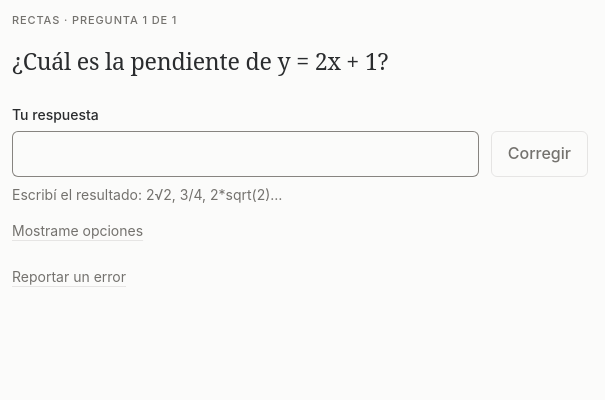
it: Práctica v2: ronda 2 › con la confianza a la vista, Corregir ya no está
Expected: the heading "¿Cuál es la pendiente de y = 2x + 1?" is shown, [12,45,388,77]
Type "2" into the field labelled "Tu respuesta" at (245, 154), box [12,132,479,177]
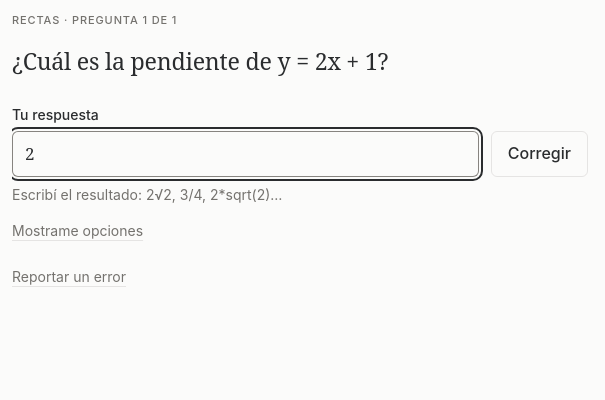
Click the button "Corregir" at (539, 154), box [491,132,588,177]
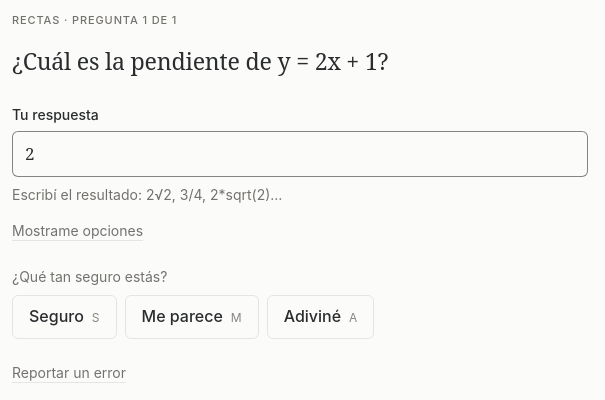
Now the button "Seguro S" is shown, box [12,295,116,339]
Now the button "Corregir" is gone
Si cambia lo escrito, vuelve a pedir corregir.
Type "0" into the field labelled "Tu respuesta" at (300, 154), box [12,132,588,177]
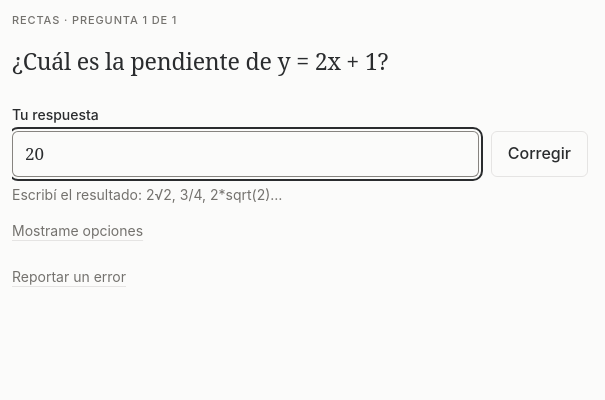
Now the button "Corregir" is shown, box [491,132,588,177]
Now the button "Seguro" is gone
